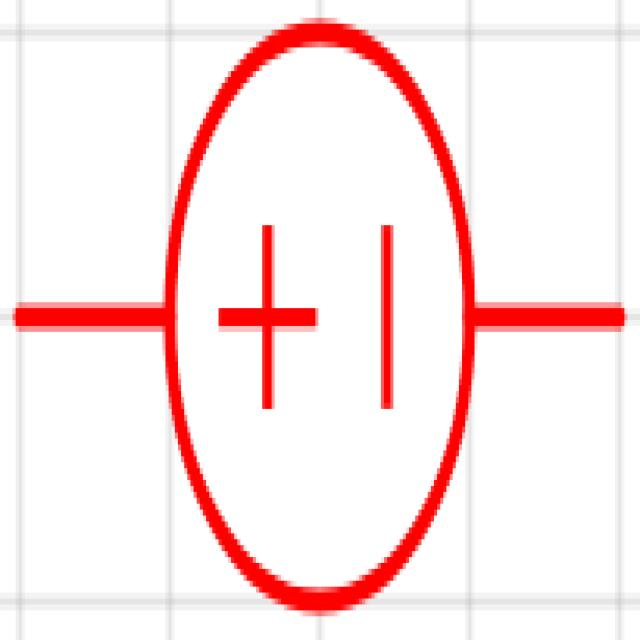vdc: (9, 14, 628, 634)
